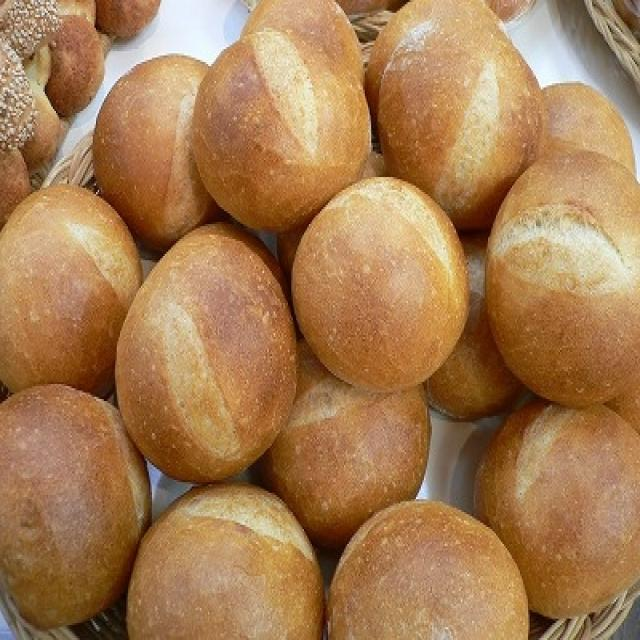面包点心: (2, 2, 635, 634)
